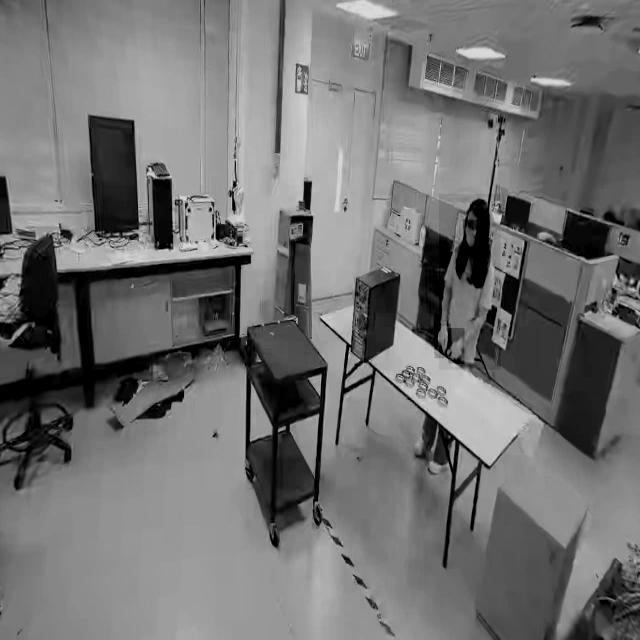face_mask: (463, 219, 482, 249)
hand_glove: (434, 324, 452, 359), (449, 328, 465, 364)
head_nohelmet: (466, 196, 490, 218)
person: (439, 194, 501, 370)
